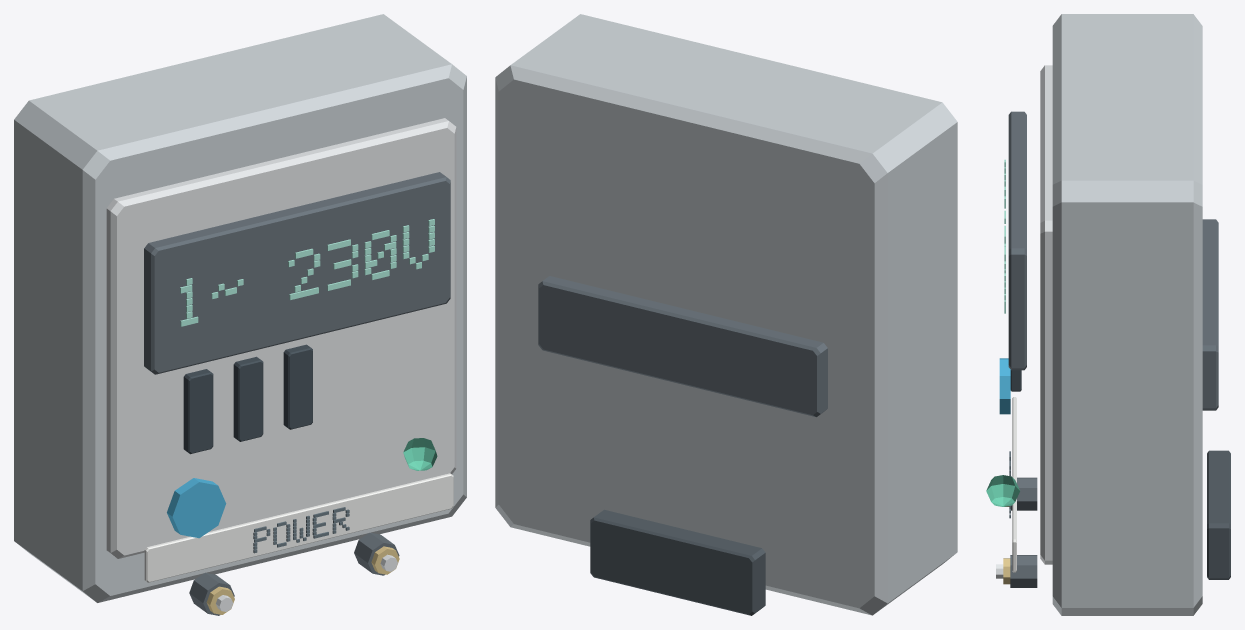
The model's file is acSupply.glb.
The picture shows the model from 3 angles, left to right: view 1: azimuth 30°, elevation 25°; view 2: azimuth 150°, elevation 25°; view 3: azimuth 270°, elevation 25°; orthographic projection. The views are drawn at different scales.
Parts seen in each view (by area): view 1: acSupply-board; view 2: acSupply-board; view 3: acSupply-board.
Part boxes in pixels (bbox=[...]): acSupply-board: bbox=[14, 14, 466, 615]; acSupply-board: bbox=[495, 14, 957, 615]; acSupply-board: bbox=[986, 14, 1230, 615].
Size of the model in its own units: 2.33 by 2.72 by 1.34.
